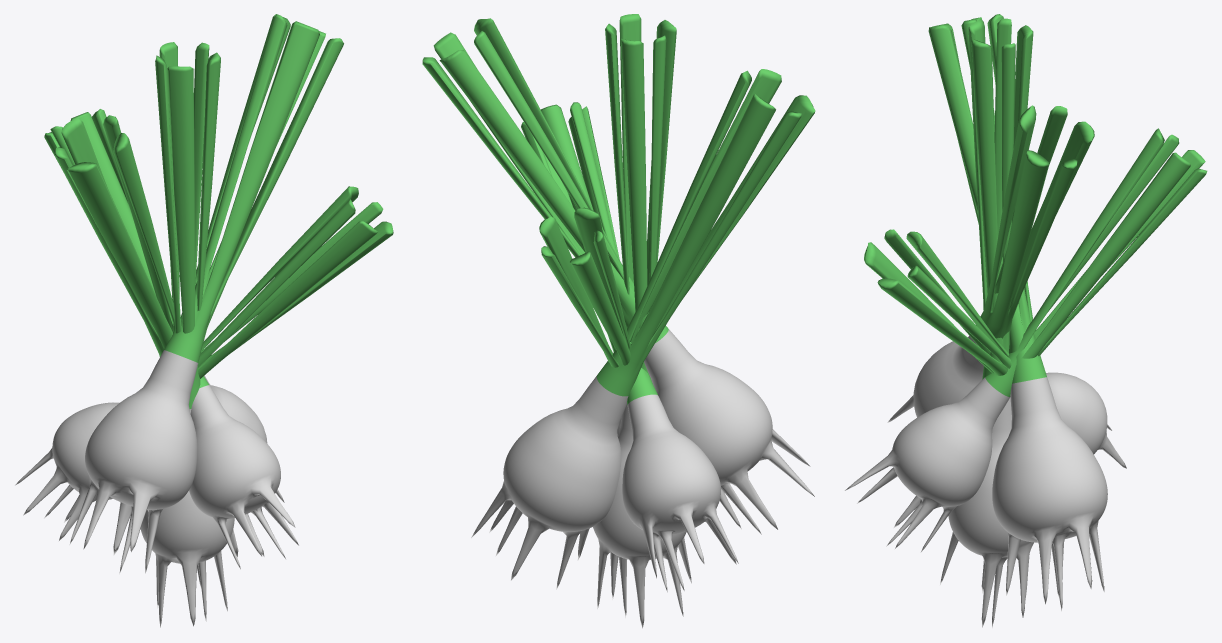
The model's file is SpringOnionBunch.fbx.
3 renders of one model, left to right at view 1: azimuth 30°, elevation 25°; view 2: azimuth 150°, elevation 25°; view 3: azimuth 270°, elevation 25°, orthographic. The views are drawn at different scales.
Parts seen in each view (by area): view 1: pSphere6; view 2: pSphere6; view 3: pSphere6.
Boxes of the visible parts, x1,y1,x2,y2 form: pSphere6: [15, 14, 393, 627]; pSphere6: [422, 14, 815, 628]; pSphere6: [845, 14, 1207, 627].
Size of the model in its own units: 7.53 by 12.89 by 7.2.
